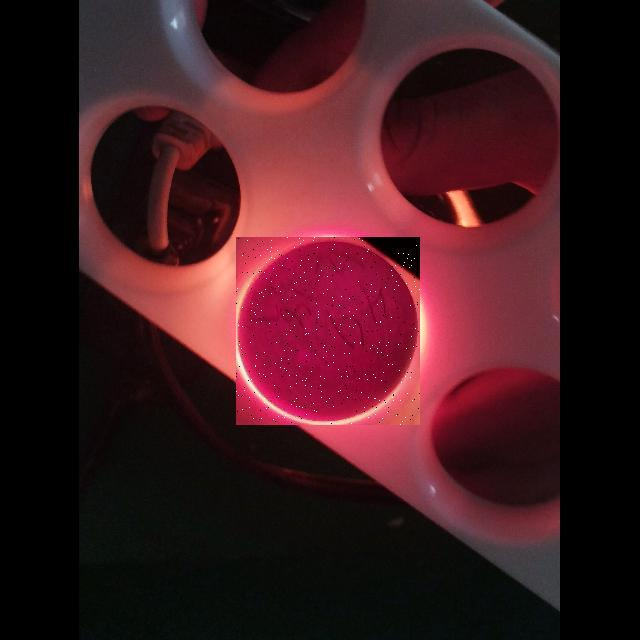Infertile: (236, 237, 420, 425)
